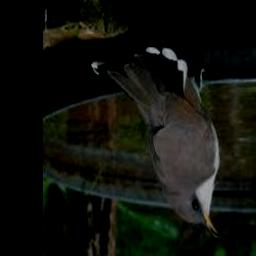Cuckoo: (91, 47, 224, 239)
